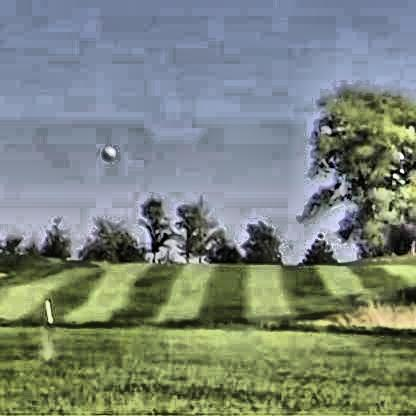golfball: (98, 142, 113, 160)
